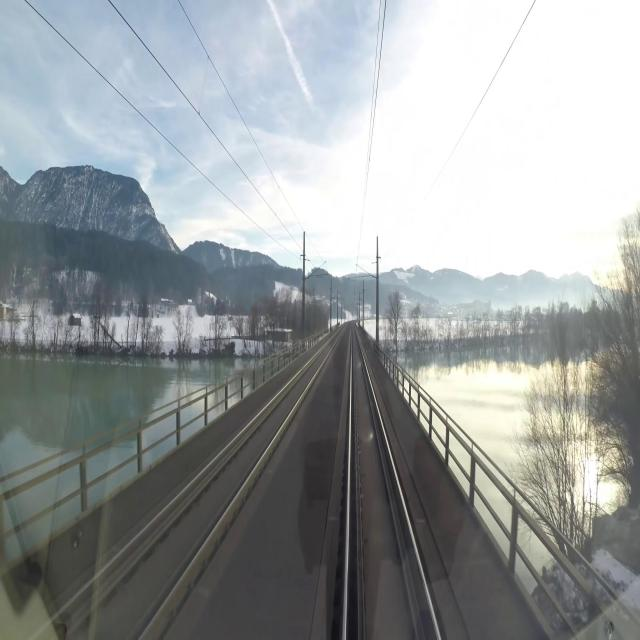rail-track: (36, 333, 338, 639), (347, 327, 437, 639)
